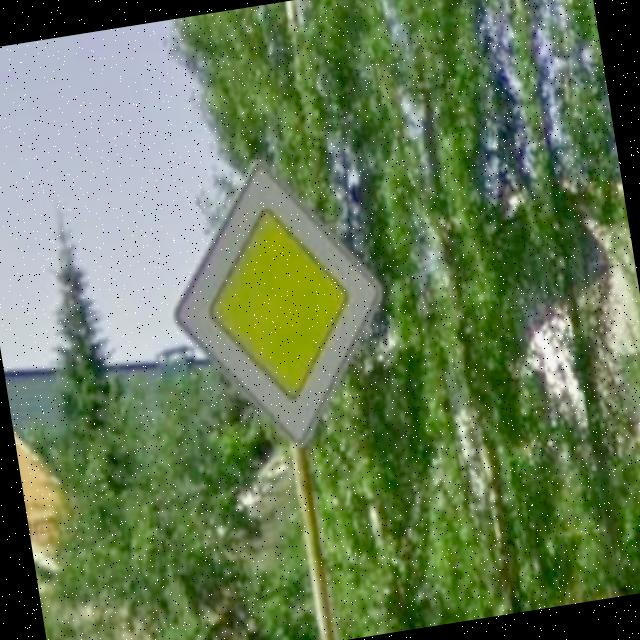Droga z pierwszenstwem: (151, 143, 403, 461)
